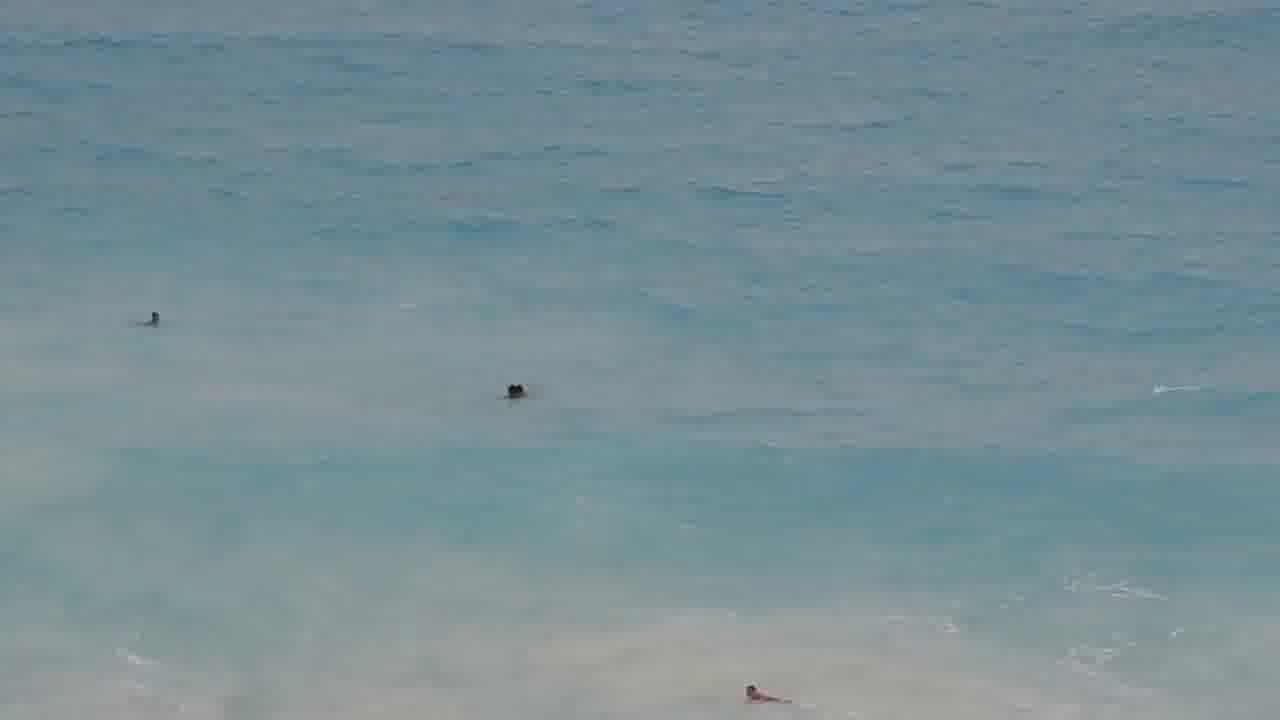swimmer: (728, 663, 780, 714), (128, 294, 175, 342), (495, 370, 538, 412)
